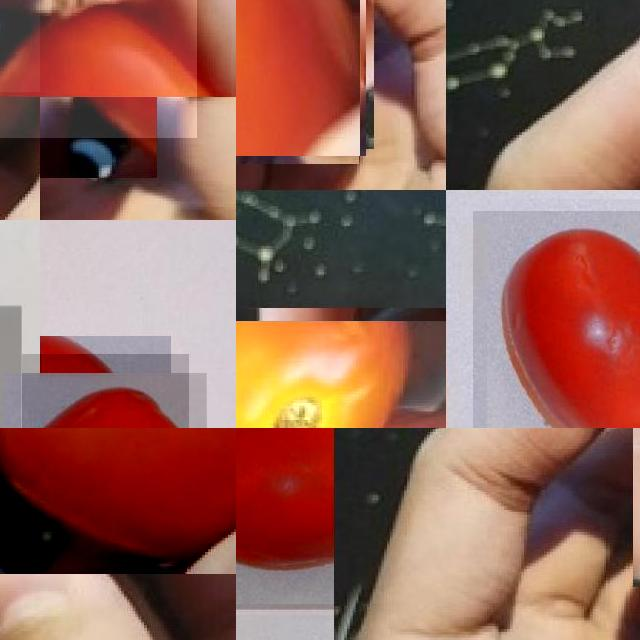Fresh Tomato: (473, 211, 640, 428), (0, 428, 236, 574), (0, 0, 197, 137), (236, 321, 446, 428), (236, 0, 366, 156), (236, 428, 334, 609), (21, 354, 189, 428)
